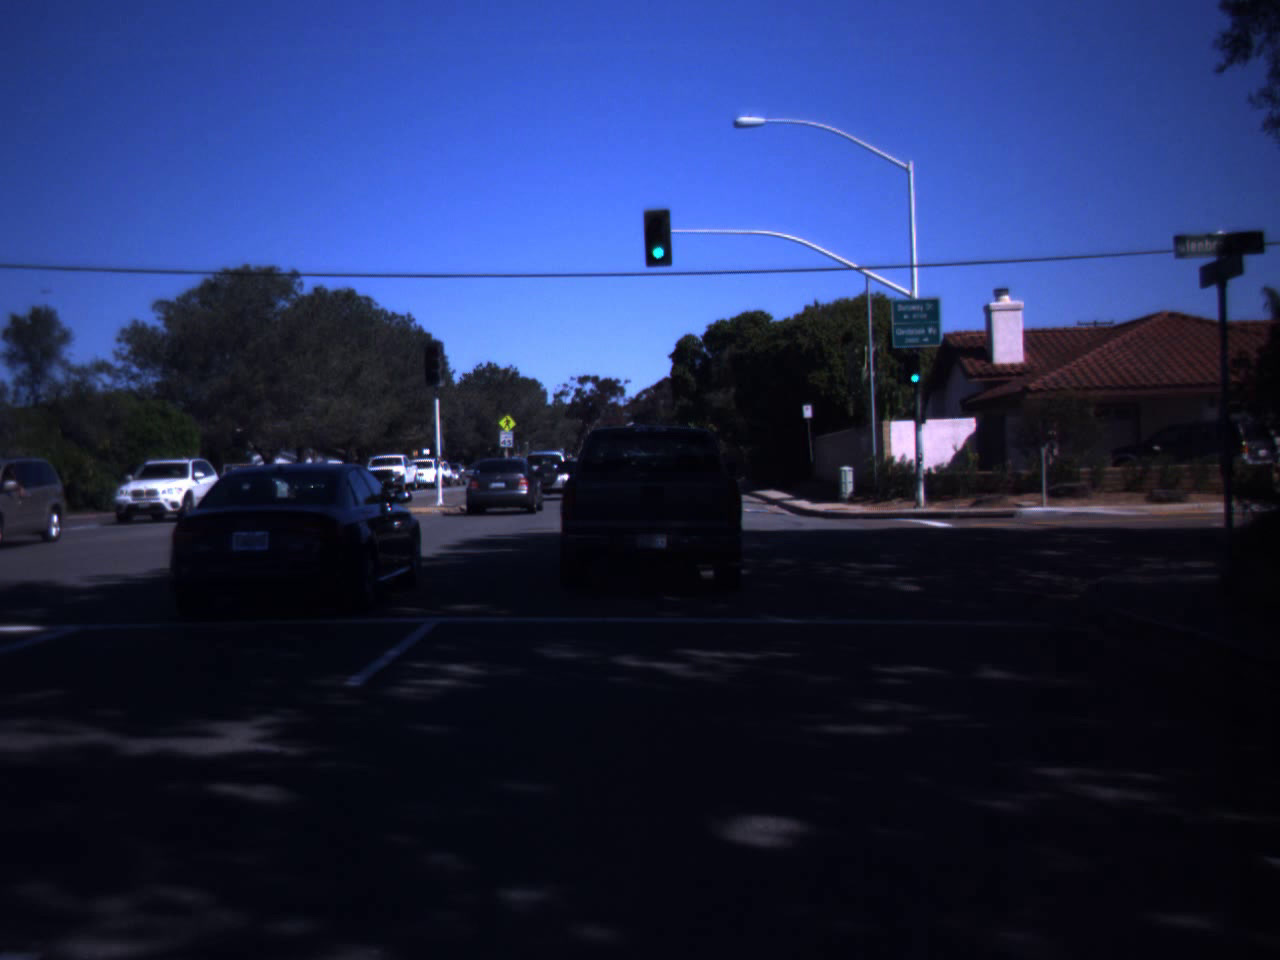go: (645, 213, 672, 263), (906, 350, 924, 385)
